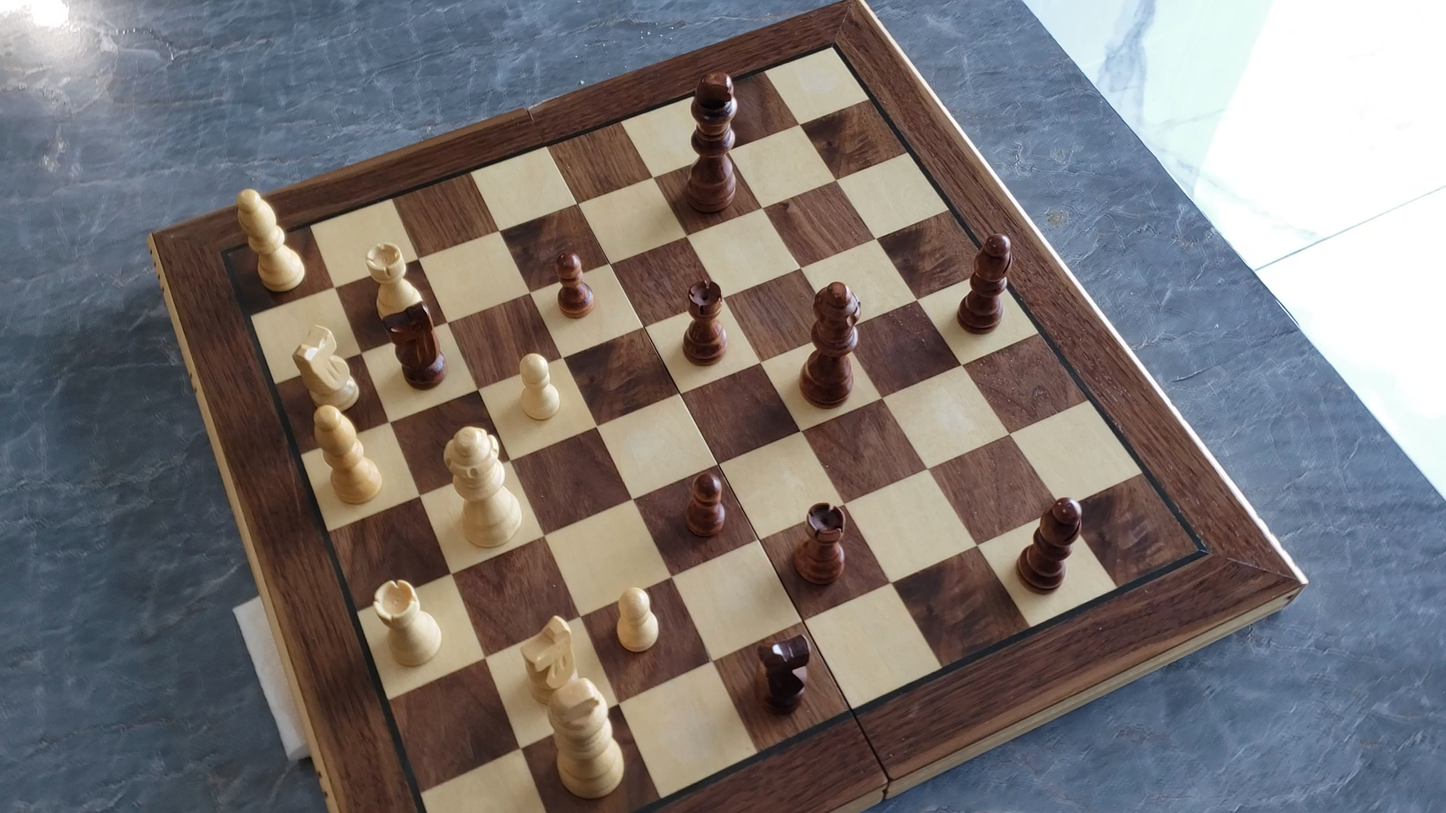black-bishop: (1011, 491, 1096, 595), (958, 226, 1022, 348)
black-king: (680, 65, 743, 216)
black-knight: (381, 299, 449, 390), (754, 630, 815, 717)
black-pawn: (682, 465, 730, 541), (552, 246, 596, 322)
black-queen: (794, 277, 870, 412)
black-rook: (791, 499, 850, 588), (680, 275, 729, 368)
white-bishop: (230, 183, 309, 296), (306, 402, 387, 509)
white-king: (548, 675, 627, 795)
white-knight: (290, 321, 364, 415), (518, 611, 582, 704)
white-pawn: (610, 581, 665, 657), (514, 348, 565, 425)
white-queen: (441, 423, 525, 552)
white-rook: (369, 575, 446, 672), (363, 239, 428, 323)
